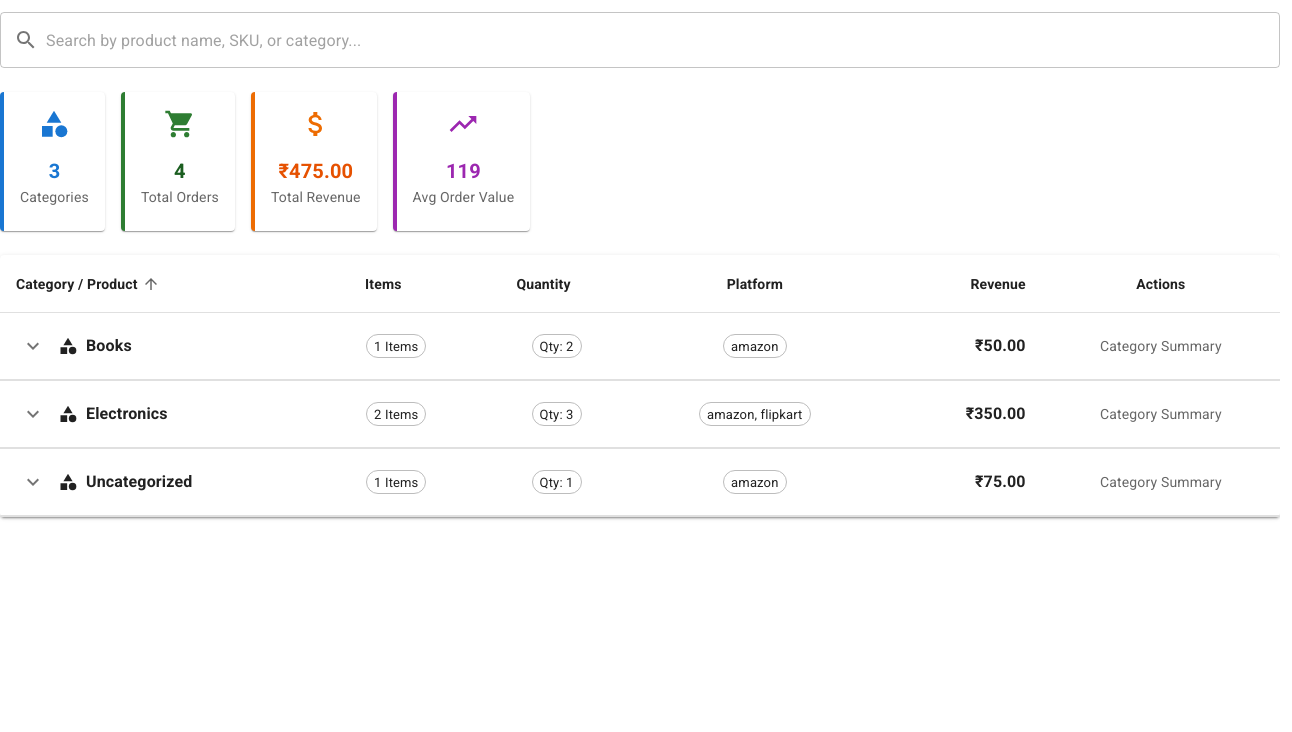
CategoryGroupedTable › shows platform chips with correct colors
# Find and expand Electronics accordion
What coordinates should you click on to do the following:
click the button "Electronics"
I would click on:
 (640, 414)
Its box is [0, 381, 1280, 448].
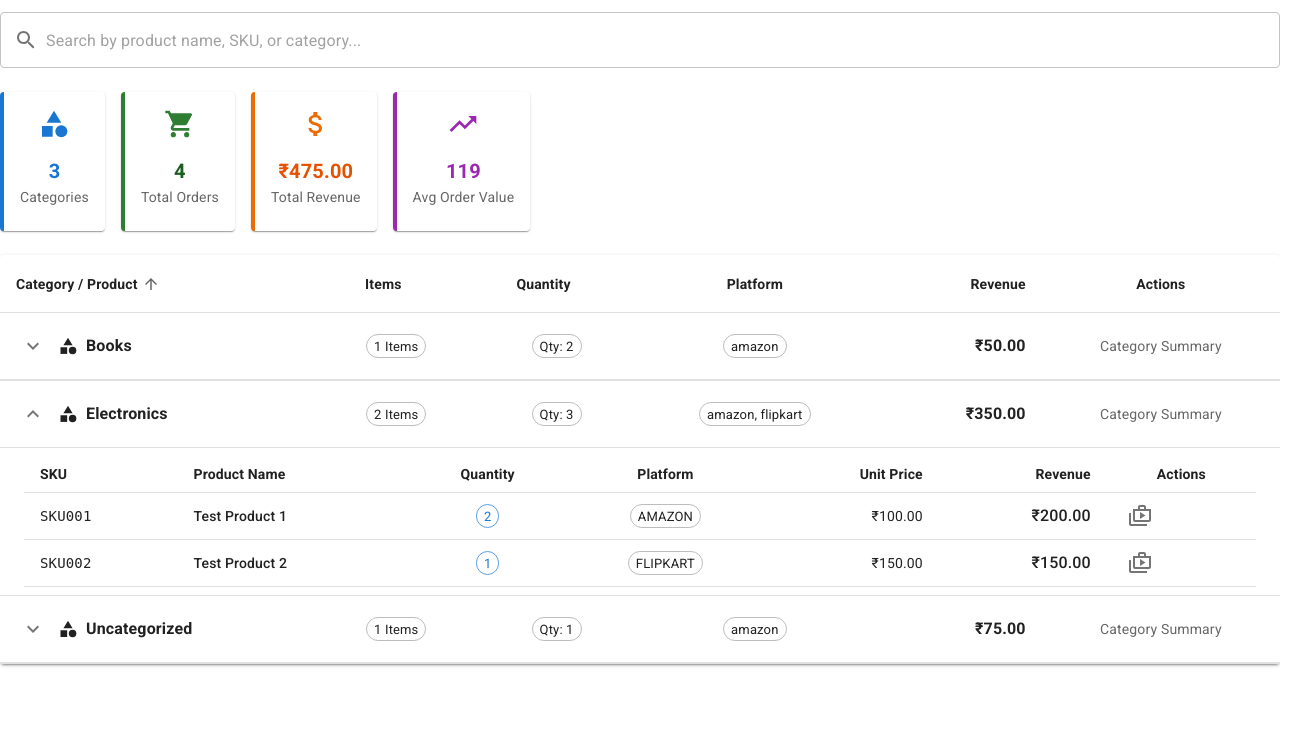
Expected: the text "AMAZON" is shown, [638, 509, 693, 524]
Expected: the text "FLIPKART" is shown, [636, 556, 695, 571]
